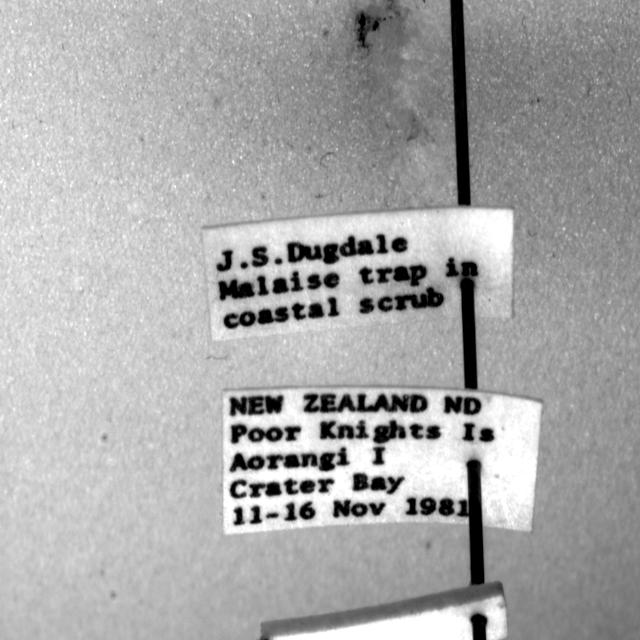typed_label: (222, 388, 542, 534), (202, 206, 514, 339)
